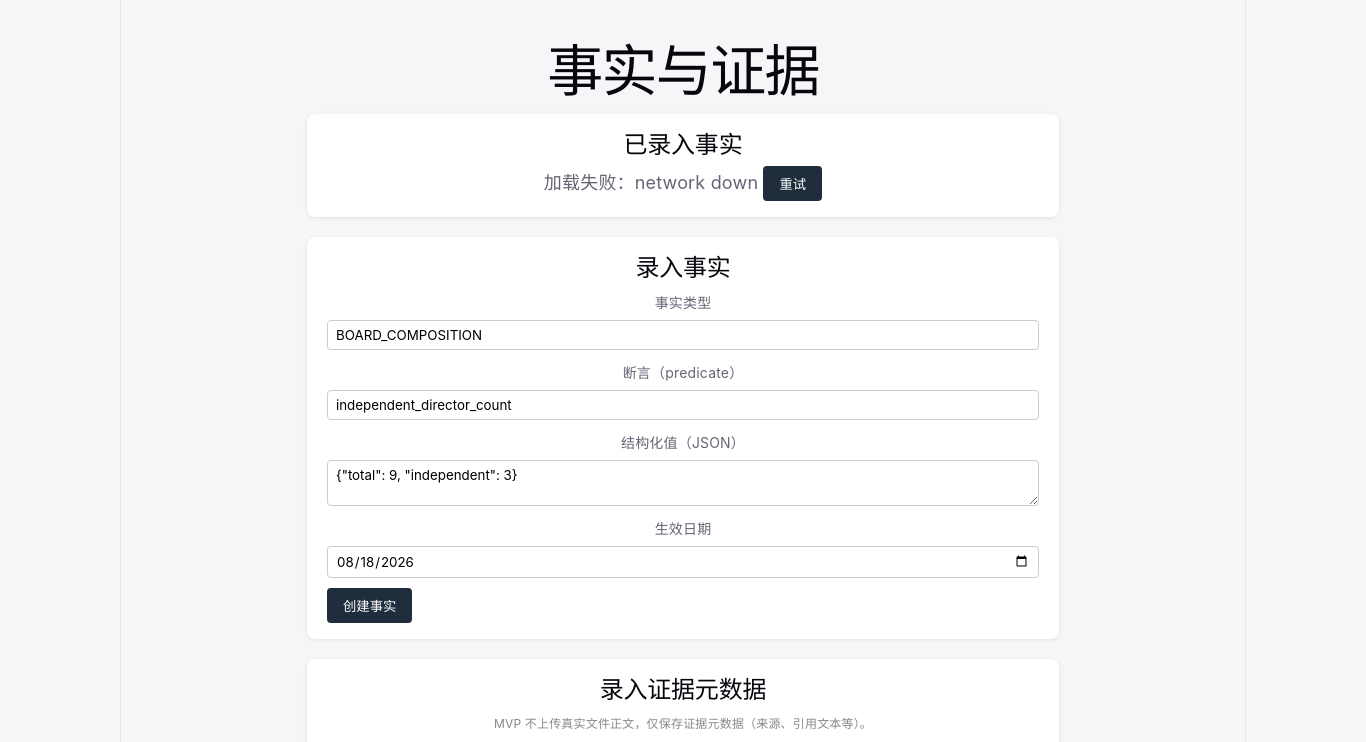
Scenario: FactEvidenceView › recovers from a loading failure via the retry button
Click the button "重试".
click(793, 184)  # box [764,166,822,201]
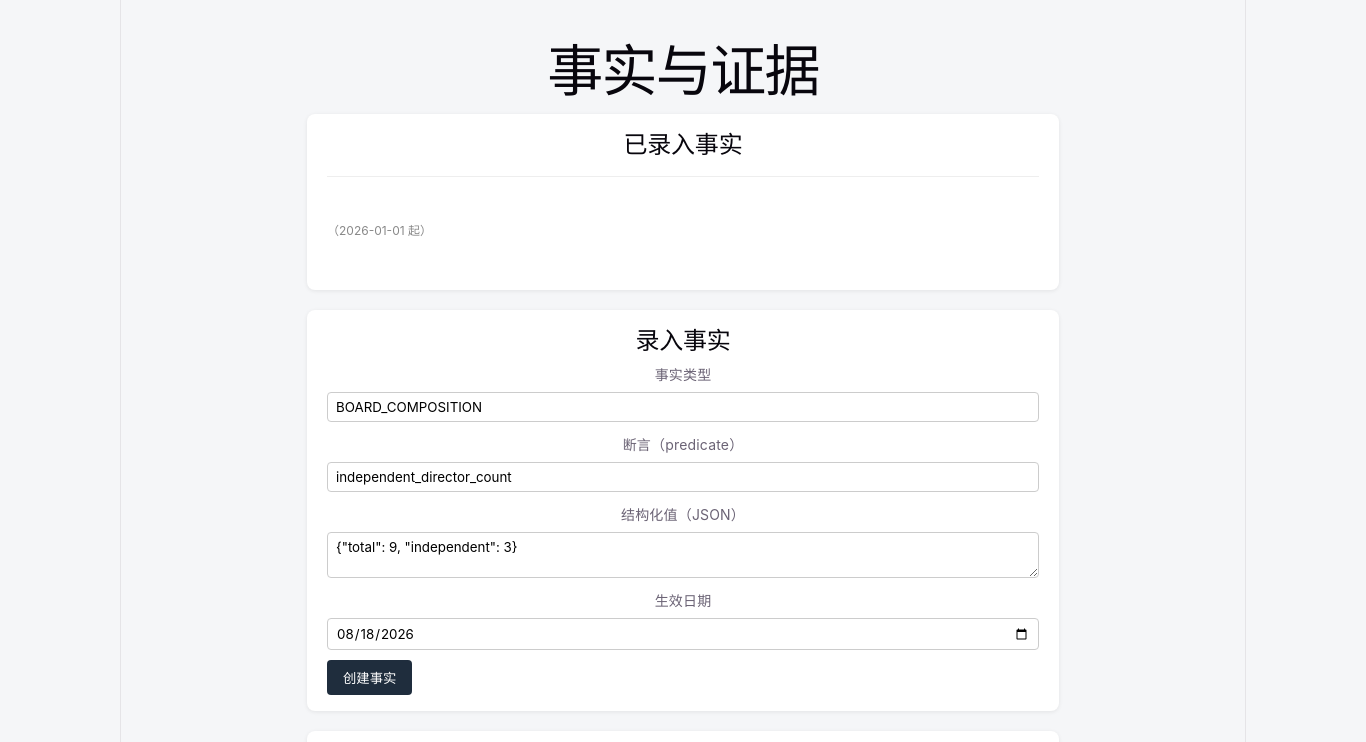
Result: the text "BOARD_COMPOSITION" is shown at [327,185,1039,248]
